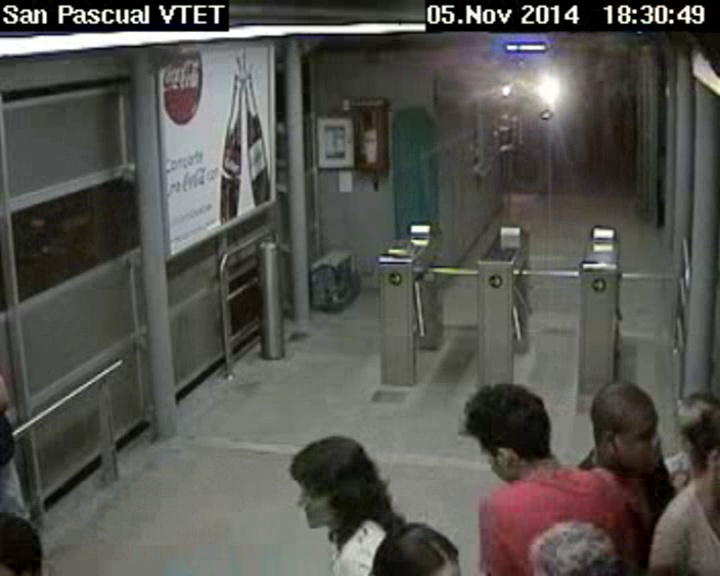person: (457, 376, 564, 482), (286, 432, 388, 531), (587, 376, 667, 474), (368, 522, 468, 576), (682, 403, 720, 501)
